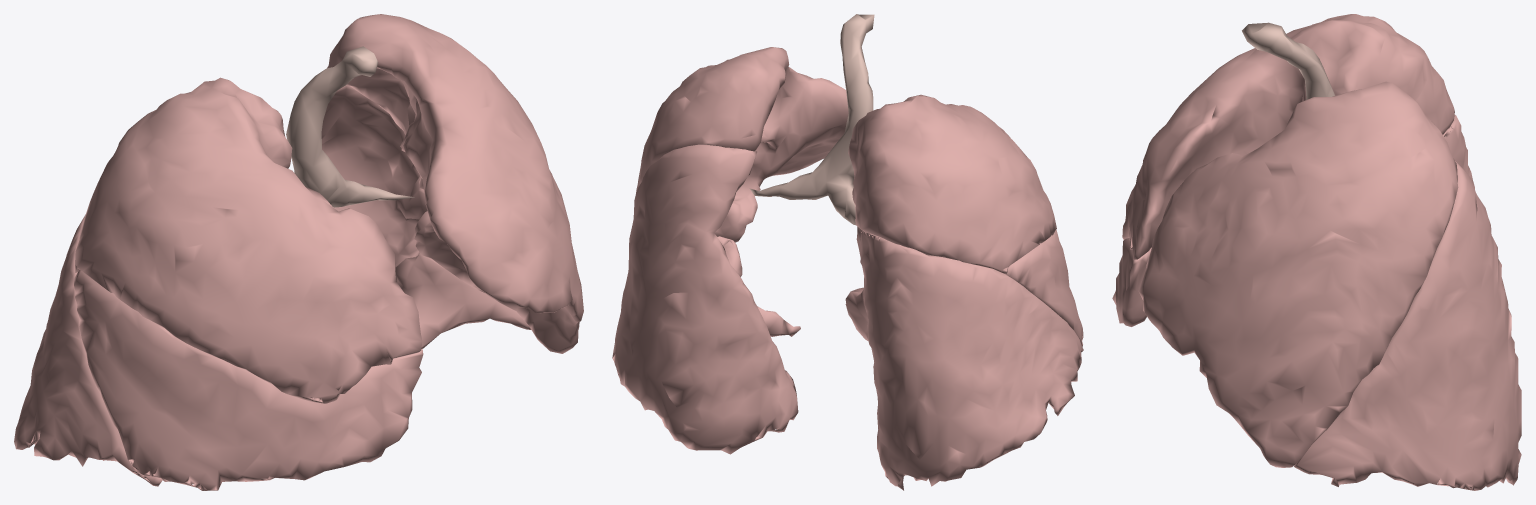
Rendered from tsd_s0196_older_adult_female.respiratory.LOD3.glb.
3 views of the same model, side by side, from view 1: azimuth 30°, elevation 25°; view 2: azimuth 150°, elevation 25°; view 3: azimuth 270°, elevation 25° (orthographic). The views are drawn at different scales.
Visible parts, largest first — view 1: TSD_S0196.OLDER_ADULT.FEMALE.RESPIRATORY.SUPERIOR_LOBE_OF_RI, TSD_S0196.OLDER_ADULT.FEMALE.RESPIRATORY.SUPERIOR_LOBE_OF_LE, TSD_S0196.OLDER_ADULT.FEMALE.RESPIRATORY.MIDDLE_LOBE_OF_RIGH, TSD_S0196.OLDER_ADULT.FEMALE.RESPIRATORY.INFERIOR_LOBE_OF_LE, TSD_S0196.OLDER_ADULT.FEMALE.RESPIRATORY.INFERIOR_LOBE_OF_RI, TSD_S0196.OLDER_ADULT.FEMALE.RESPIRATORY.TRACHEA; view 2: TSD_S0196.OLDER_ADULT.FEMALE.RESPIRATORY.INFERIOR_LOBE_OF_RI, TSD_S0196.OLDER_ADULT.FEMALE.RESPIRATORY.INFERIOR_LOBE_OF_LE, TSD_S0196.OLDER_ADULT.FEMALE.RESPIRATORY.SUPERIOR_LOBE_OF_RI, TSD_S0196.OLDER_ADULT.FEMALE.RESPIRATORY.SUPERIOR_LOBE_OF_LE, TSD_S0196.OLDER_ADULT.FEMALE.RESPIRATORY.TRACHEA, TSD_S0196.OLDER_ADULT.FEMALE.RESPIRATORY.MIDDLE_LOBE_OF_RIGH; view 3: TSD_S0196.OLDER_ADULT.FEMALE.RESPIRATORY.SUPERIOR_LOBE_OF_LE, TSD_S0196.OLDER_ADULT.FEMALE.RESPIRATORY.INFERIOR_LOBE_OF_LE, TSD_S0196.OLDER_ADULT.FEMALE.RESPIRATORY.SUPERIOR_LOBE_OF_RI, TSD_S0196.OLDER_ADULT.FEMALE.RESPIRATORY.TRACHEA, TSD_S0196.OLDER_ADULT.FEMALE.RESPIRATORY.MIDDLE_LOBE_OF_RIGH, TSD_S0196.OLDER_ADULT.FEMALE.RESPIRATORY.INFERIOR_LOBE_OF_RI.
Part boxes in pixels (left/top/right/bottom): TSD_S0196.OLDER_ADULT.FEMALE.RESPIRATORY.SUPERIOR_LOBE_OF_RI: left=75, top=77, right=422, bottom=403; TSD_S0196.OLDER_ADULT.FEMALE.RESPIRATORY.SUPERIOR_LOBE_OF_LE: left=327, top=14, right=583, bottom=353; TSD_S0196.OLDER_ADULT.FEMALE.RESPIRATORY.MIDDLE_LOBE_OF_RIGH: left=74, top=270, right=423, bottom=490; TSD_S0196.OLDER_ADULT.FEMALE.RESPIRATORY.INFERIOR_LOBE_OF_LE: left=321, top=85, right=531, bottom=348; TSD_S0196.OLDER_ADULT.FEMALE.RESPIRATORY.INFERIOR_LOBE_OF_RI: left=14, top=214, right=162, bottom=486; TSD_S0196.OLDER_ADULT.FEMALE.RESPIRATORY.TRACHEA: left=286, top=46, right=414, bottom=207; TSD_S0196.OLDER_ADULT.FEMALE.RESPIRATORY.INFERIOR_LOBE_OF_RI: left=845, top=226, right=1083, bottom=490; TSD_S0196.OLDER_ADULT.FEMALE.RESPIRATORY.INFERIOR_LOBE_OF_LE: left=612, top=144, right=800, bottom=454; TSD_S0196.OLDER_ADULT.FEMALE.RESPIRATORY.SUPERIOR_LOBE_OF_RI: left=848, top=94, right=1056, bottom=273; TSD_S0196.OLDER_ADULT.FEMALE.RESPIRATORY.SUPERIOR_LOBE_OF_LE: left=636, top=47, right=848, bottom=242; TSD_S0196.OLDER_ADULT.FEMALE.RESPIRATORY.TRACHEA: left=749, top=14, right=874, bottom=224; TSD_S0196.OLDER_ADULT.FEMALE.RESPIRATORY.MIDDLE_LOBE_OF_RIGH: left=1003, top=230, right=1083, bottom=347; TSD_S0196.OLDER_ADULT.FEMALE.RESPIRATORY.SUPERIOR_LOBE_OF_LE: left=1138, top=81, right=1458, bottom=467; TSD_S0196.OLDER_ADULT.FEMALE.RESPIRATORY.INFERIOR_LOBE_OF_LE: left=1294, top=161, right=1521, bottom=490; TSD_S0196.OLDER_ADULT.FEMALE.RESPIRATORY.SUPERIOR_LOBE_OF_RI: left=1122, top=14, right=1454, bottom=259; TSD_S0196.OLDER_ADULT.FEMALE.RESPIRATORY.TRACHEA: left=1242, top=22, right=1335, bottom=99; TSD_S0196.OLDER_ADULT.FEMALE.RESPIRATORY.MIDDLE_LOBE_OF_RIGH: left=1112, top=238, right=1151, bottom=326; TSD_S0196.OLDER_ADULT.FEMALE.RESPIRATORY.INFERIOR_LOBE_OF_RI: left=1443, top=115, right=1474, bottom=188.
Size of the model in its own units: 0.255 by 0.2137 by 0.1833.
